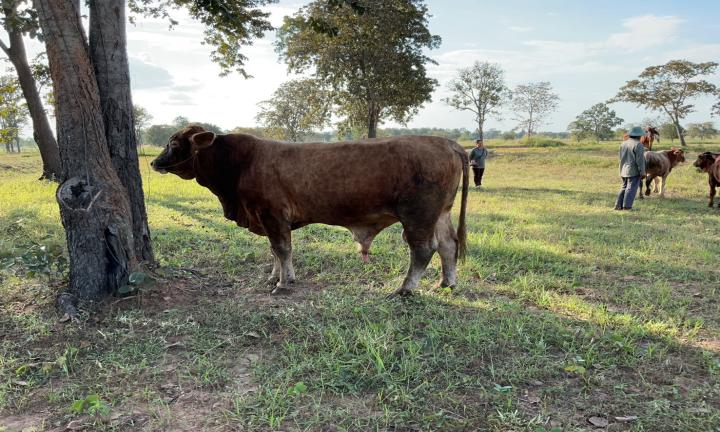Charolais: (151, 125, 468, 294)
